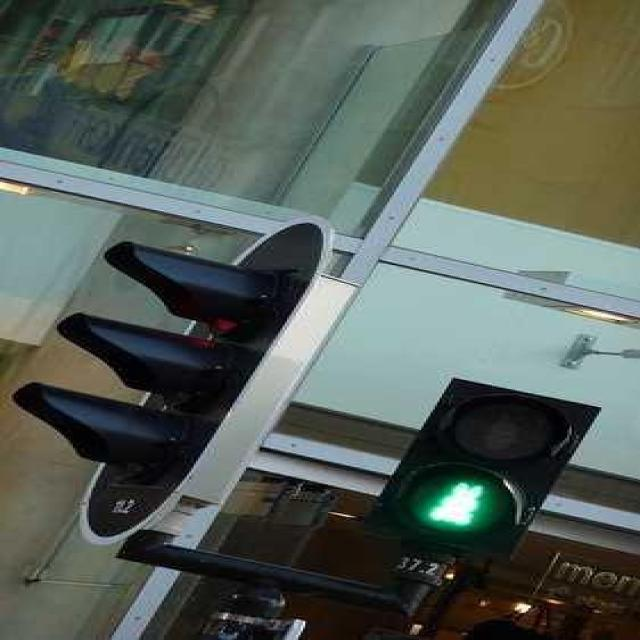Traffic Light -Green-: (364, 360, 610, 576)
